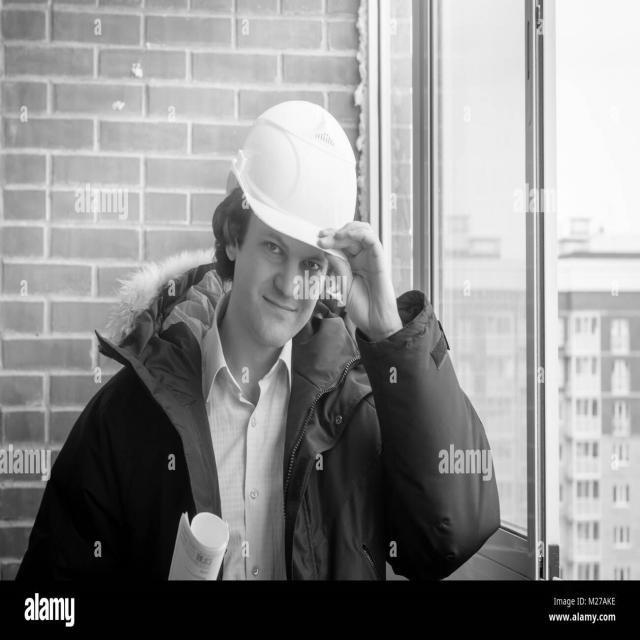safety_helmet: (231, 103, 357, 246)
